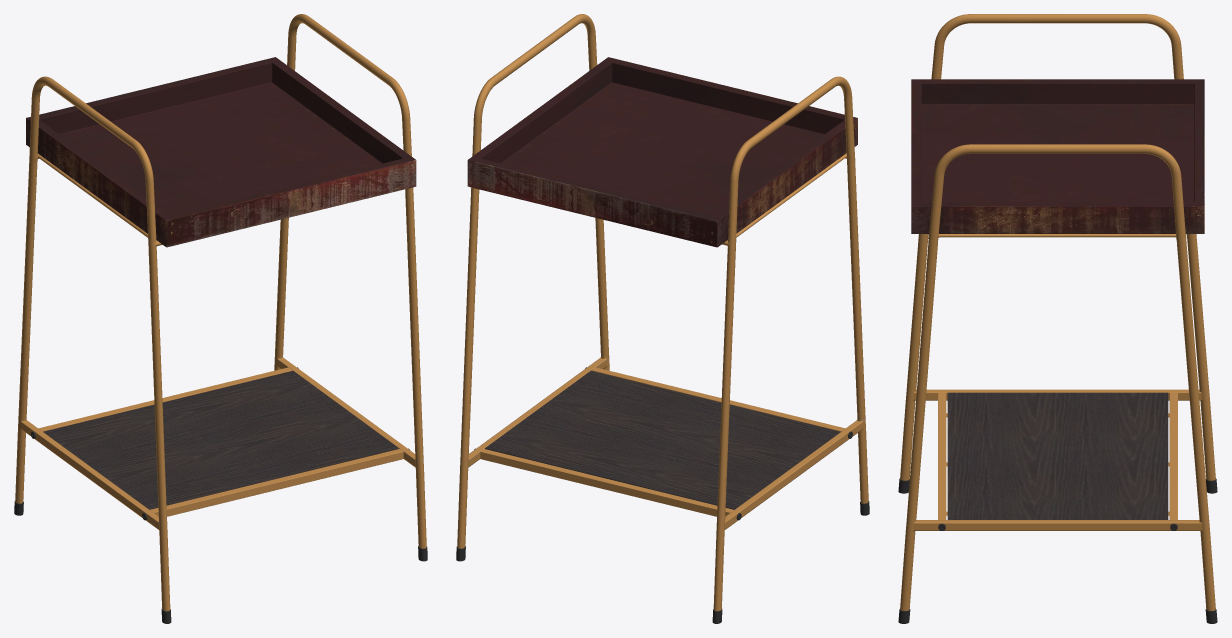
Rendered from abo-B07WL4PT89.glb.
3 renders of one model, left to right at view 1: azimuth 30°, elevation 25°; view 2: azimuth 150°, elevation 25°; view 3: azimuth 270°, elevation 25°, orthographic. The views are drawn at different scales.
Size of the model in its own units: 0.43 by 0.71 by 0.43.
Materials: 1 (1 with a texture image).
